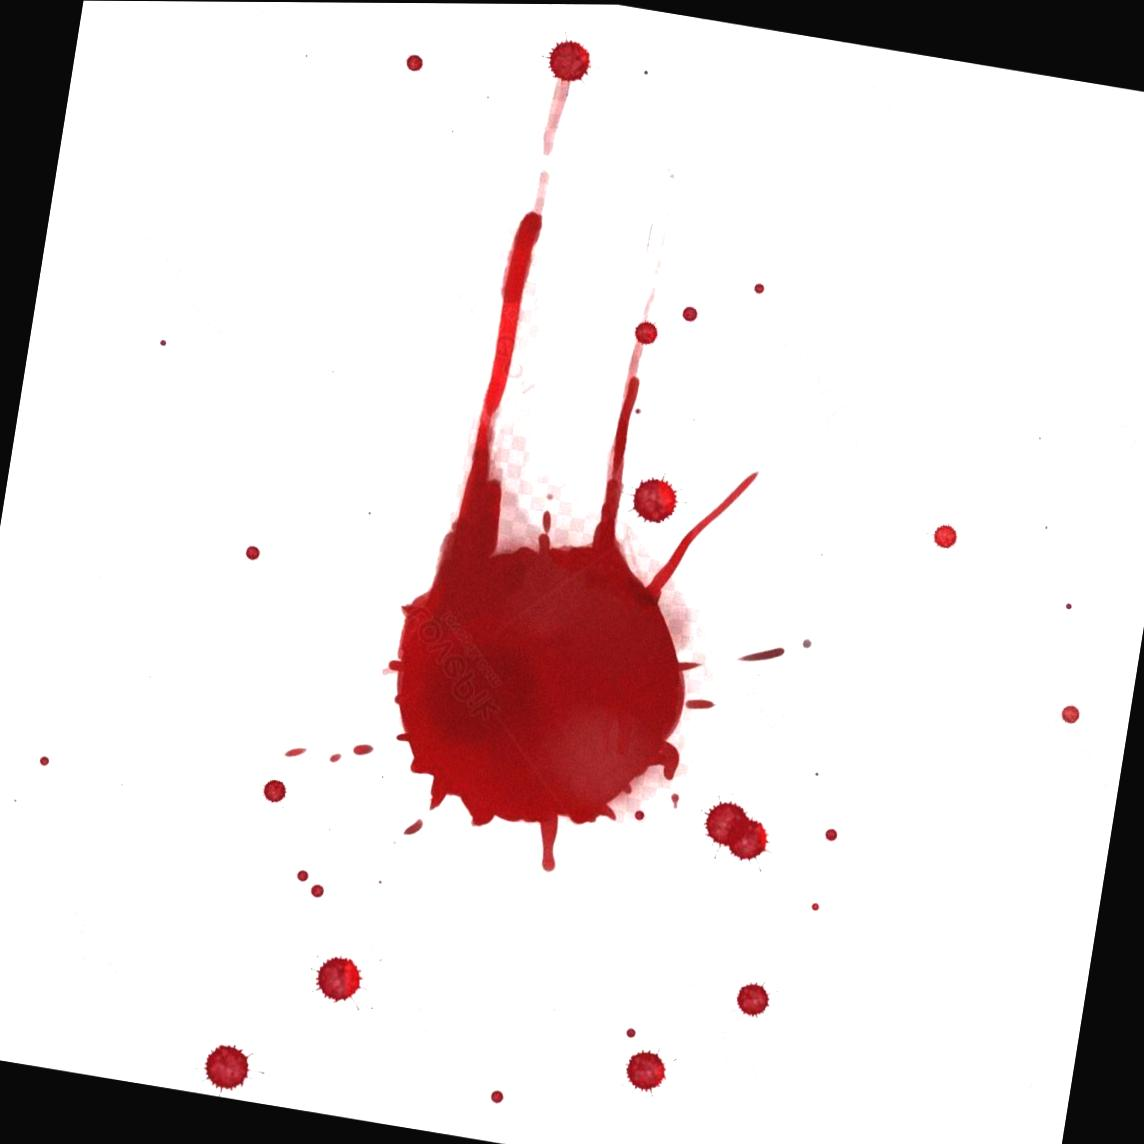Fire: (381, 211, 758, 873), (702, 800, 769, 860), (314, 955, 362, 1003), (203, 1046, 250, 1093), (633, 477, 678, 523), (546, 40, 591, 82), (625, 1051, 666, 1092), (735, 983, 770, 1018), (262, 779, 287, 804)
